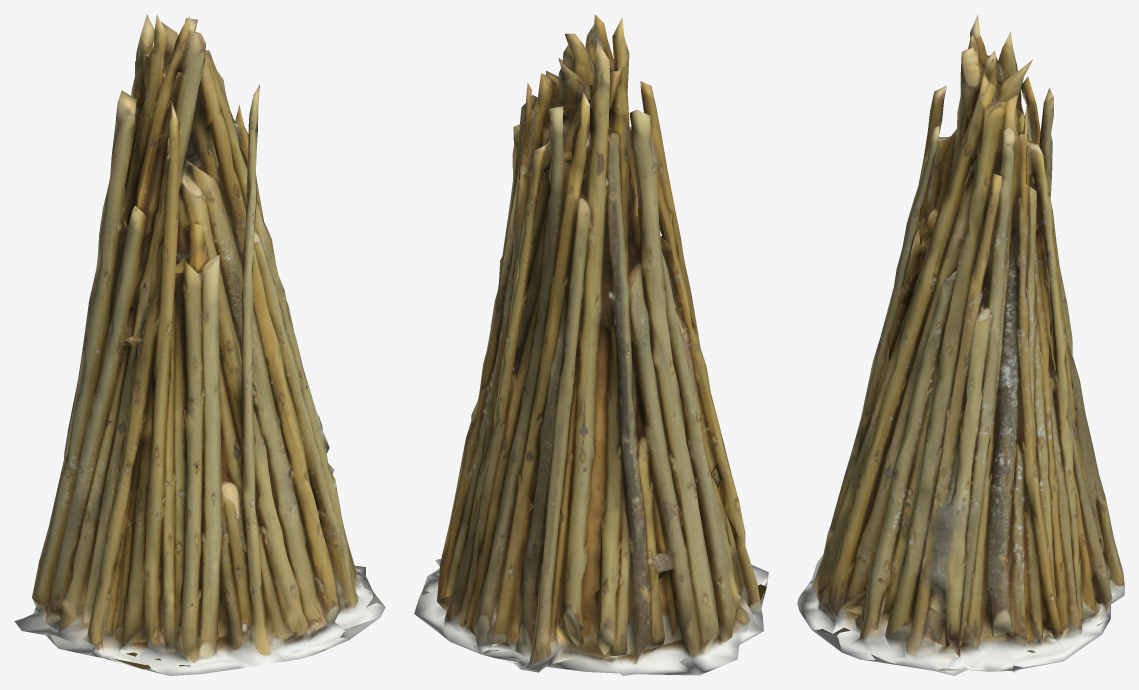
The model's file is mdl_bois_debout_01.fbx.
3 views of the same model, side by side, from view 1: azimuth 30°, elevation 25°; view 2: azimuth 150°, elevation 25°; view 3: azimuth 270°, elevation 25° (orthographic). The views are drawn at different scales.
Visible parts, largest first — view 1: mdl_bois_debout_01; view 2: mdl_bois_debout_01; view 3: mdl_bois_debout_01.
Boxes of the visible parts, x1=… form: mdl_bois_debout_01: x1=14, y1=14, x2=385, y2=675; mdl_bois_debout_01: x1=414, y1=14, x2=768, y2=675; mdl_bois_debout_01: x1=797, y1=14, x2=1124, y2=675.
Size of the model in its own units: 7.72 by 13.89 by 7.09.
1 material, 1 textured.
